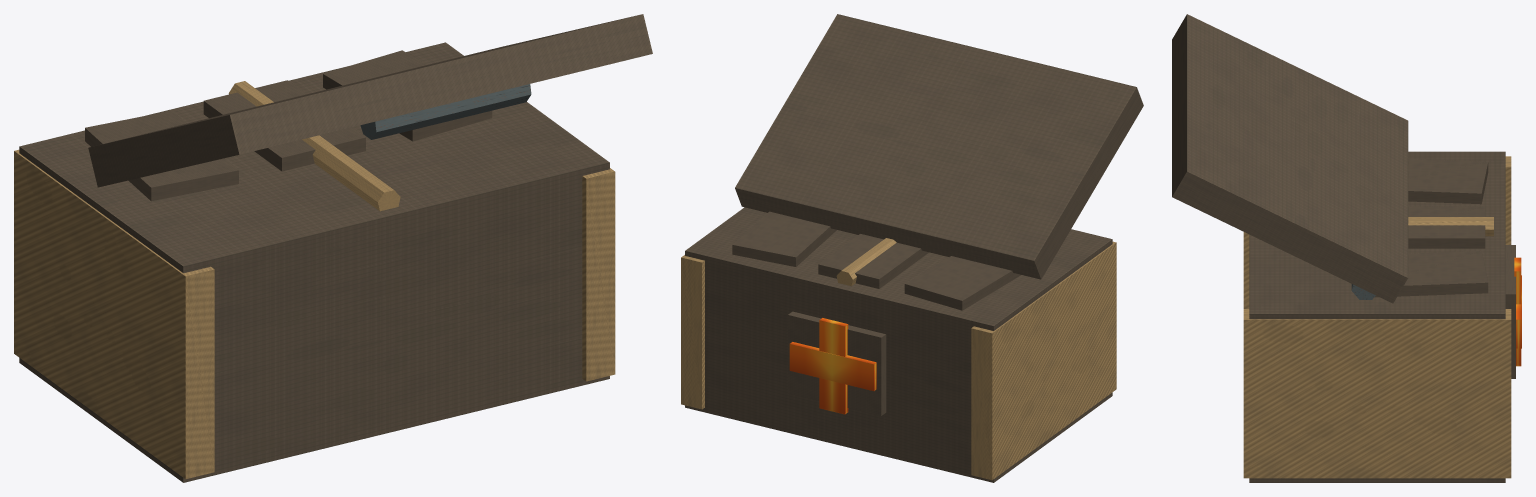
Rendered from pr-006_first_aid_kit__open.obj.
3 renders of one model, left to right at view 1: azimuth 30°, elevation 25°; view 2: azimuth 150°, elevation 25°; view 3: azimuth 270°, elevation 25°, orthographic. The views are drawn at different scales.
Visible parts, largest first — view 1: pr-006_first_aid_kit__open; view 2: pr-006_first_aid_kit__open; view 3: pr-006_first_aid_kit__open.
Boxes of the visible parts, x1,y1,x2,y2 form: pr-006_first_aid_kit__open: (14,14,652,482); pr-006_first_aid_kit__open: (681,14,1143,482); pr-006_first_aid_kit__open: (1172,14,1521,482).
Bounding box in the file's own units: 0.665 × 0.5852 × 0.6007.
Materials: 4 (4 with a texture image).
